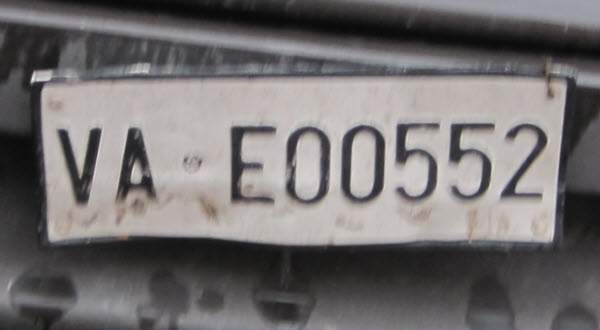license_plate: (38, 78, 568, 246)
